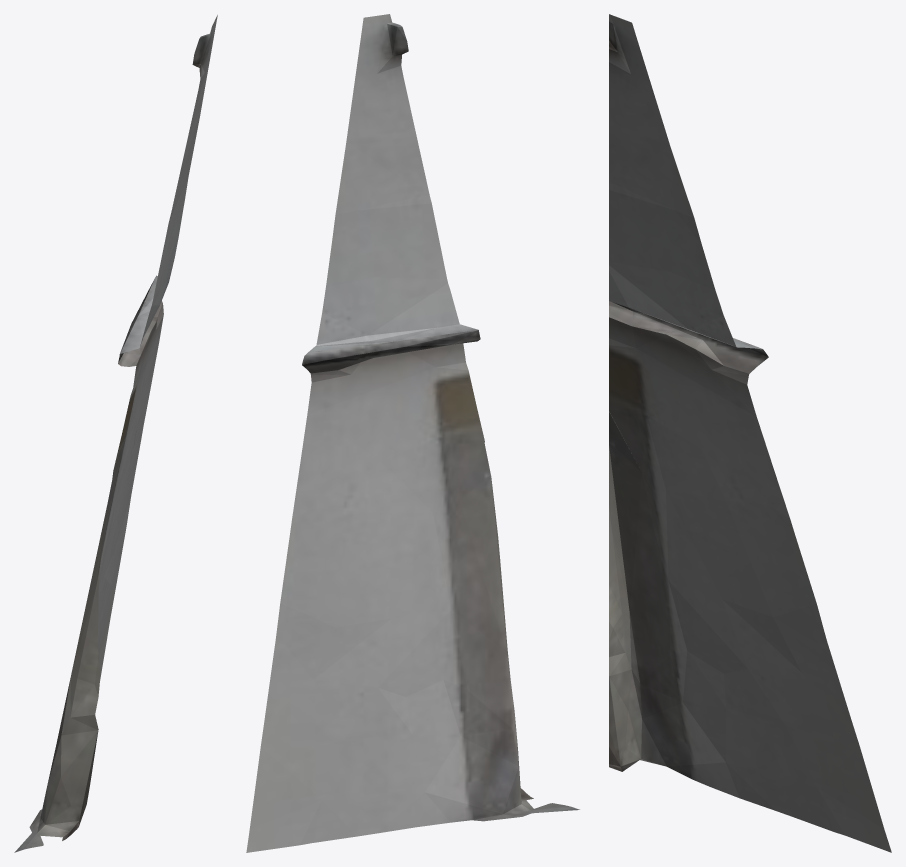
3 views of the same model, side by side, from view 1: azimuth 30°, elevation 25°; view 2: azimuth 150°, elevation 25°; view 3: azimuth 270°, elevation 25° (orthographic). The views are drawn at different scales.
Bounding box in the file's own units: 0.9665 × 3.35 × 1.03.
Materials: 1 (1 with a texture image).
